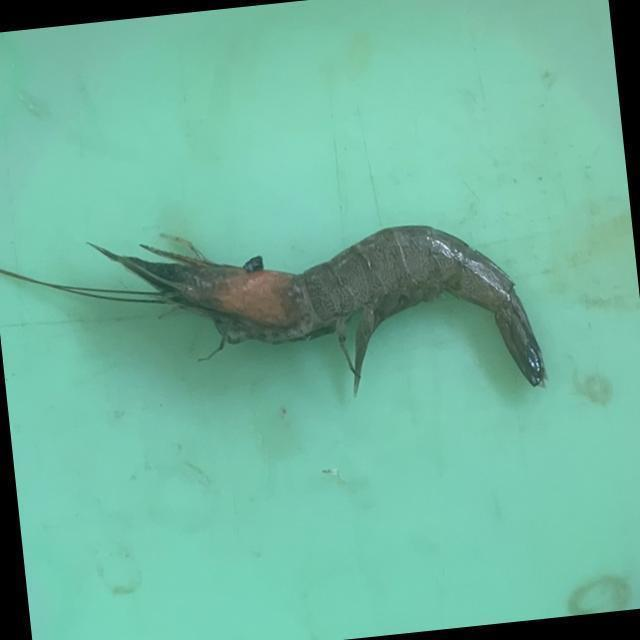shrimp: (0, 226, 544, 393)
